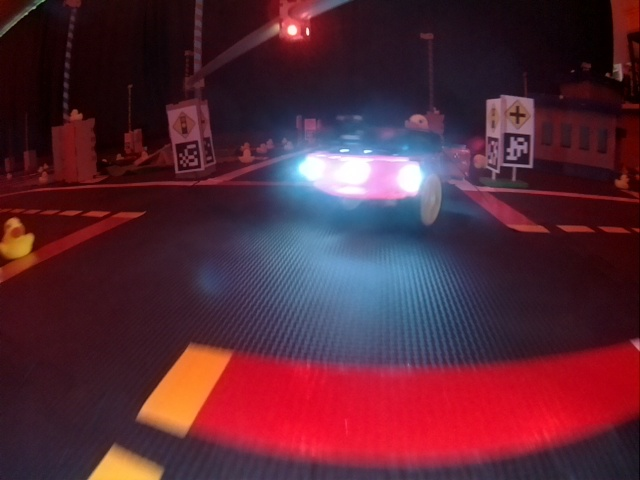Duckie: (2, 221, 33, 258), (615, 174, 629, 190), (69, 110, 82, 121)
Duckiebot: (306, 134, 443, 225)
Intersection sign: (503, 100, 532, 130)
QR code: (503, 132, 529, 165), (175, 143, 202, 169), (486, 141, 500, 171), (201, 138, 215, 165)
Signal sign: (173, 110, 197, 138), (487, 102, 502, 132)
Traffic light: (278, 1, 310, 41)
